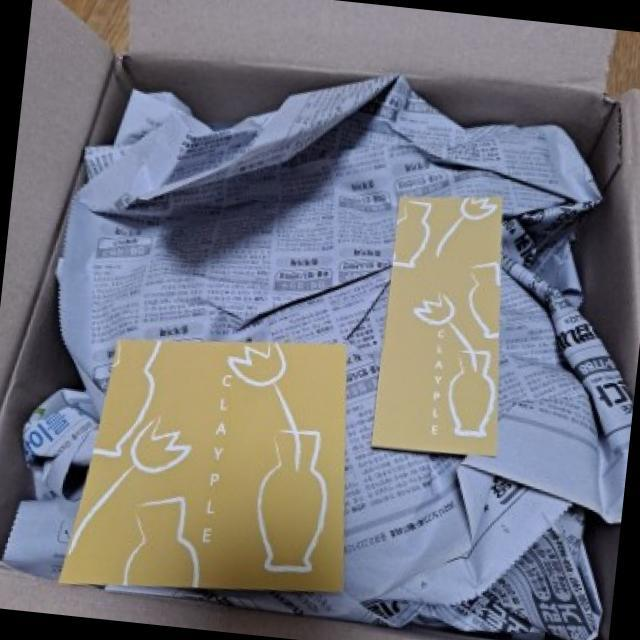reuseable_paper: (6, 49, 630, 630)
